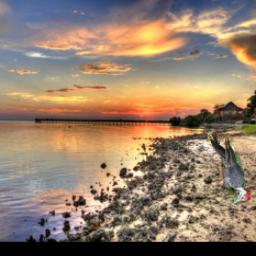Woodpecker: (209, 133, 252, 206)
